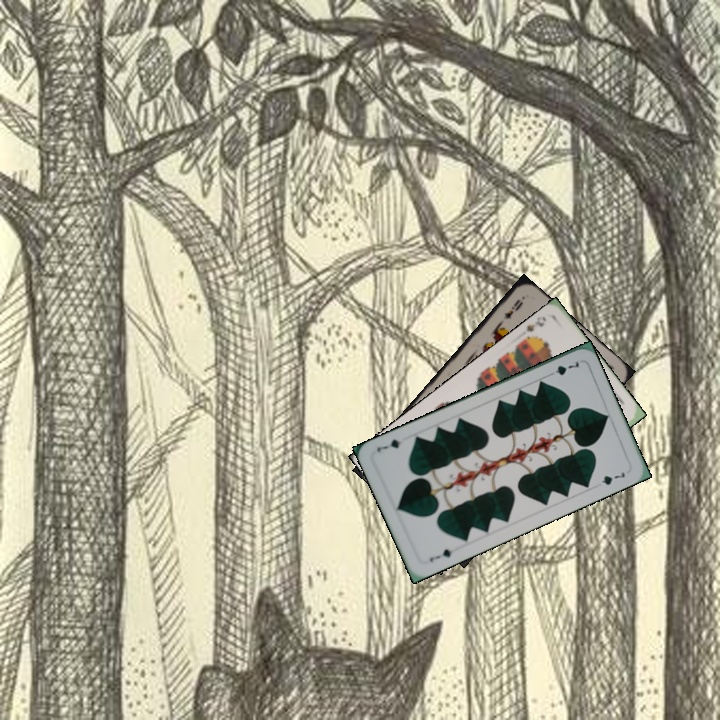E9: (499, 295, 526, 322)
G7: (544, 357, 583, 379), (425, 545, 455, 564)
S9: (518, 312, 549, 346)
